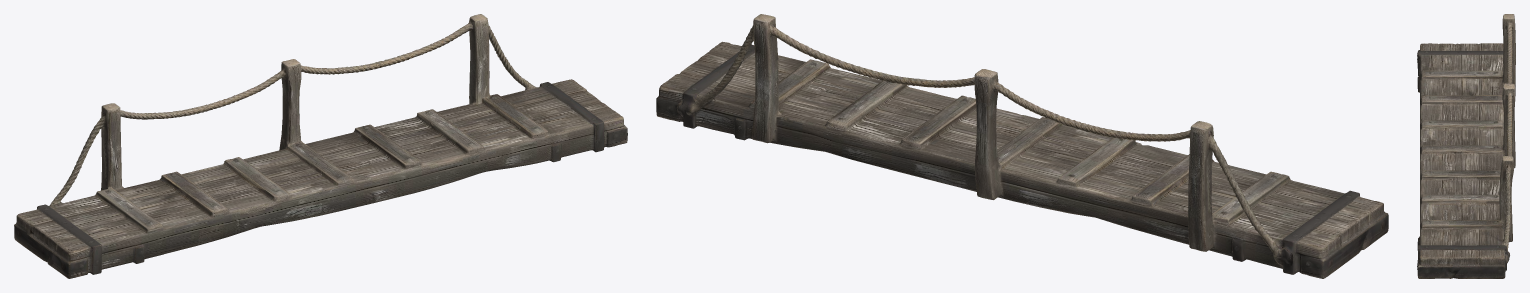
Rendered from gangplank.glb.
The picture shows the model from 3 angles, left to right: view 1: azimuth 30°, elevation 25°; view 2: azimuth 150°, elevation 25°; view 3: azimuth 270°, elevation 25°; orthographic projection. The views are drawn at different scales.
Parts seen in each view (by area): view 1: Mesh_0; view 2: Mesh_0; view 3: Mesh_0.
Boxes of the visible parts, x1,y1,x2,y2 form: Mesh_0: [14, 14, 627, 278]; Mesh_0: [656, 14, 1388, 278]; Mesh_0: [1417, 14, 1515, 278].
Size of the model in its own units: 1.9 by 0.3516 by 0.3657.
Materials: 1 (1 with a texture image).
